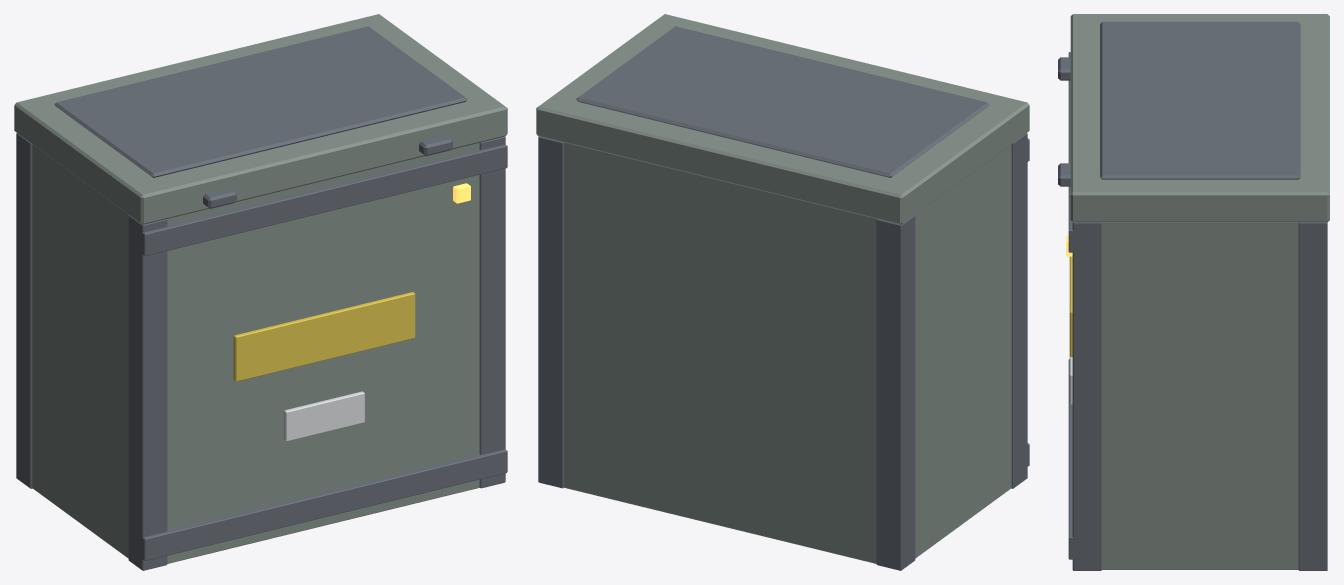
File: supply_crate.glb
The picture shows the model from 3 angles, left to right: view 1: azimuth 30°, elevation 25°; view 2: azimuth 150°, elevation 25°; view 3: azimuth 270°, elevation 25°; orthographic projection.
Visible parts, largest first — view 1: Body, Lid; view 2: Body, Lid; view 3: Body, Lid.
Boxes of the visible parts, x1=… form: Body: x1=16, y1=133, x2=507, y2=570; Lid: x1=14, y1=14, x2=507, y2=224; Body: x1=538, y1=133, x2=1029, y2=570; Lid: x1=536, y1=14, x2=1029, y2=224; Body: x1=1066, y1=52, x2=1327, y2=570; Lid: x1=1058, y1=14, x2=1329, y2=222.
Size of the model in its own units: 1.02 by 1.01 by 0.65.
